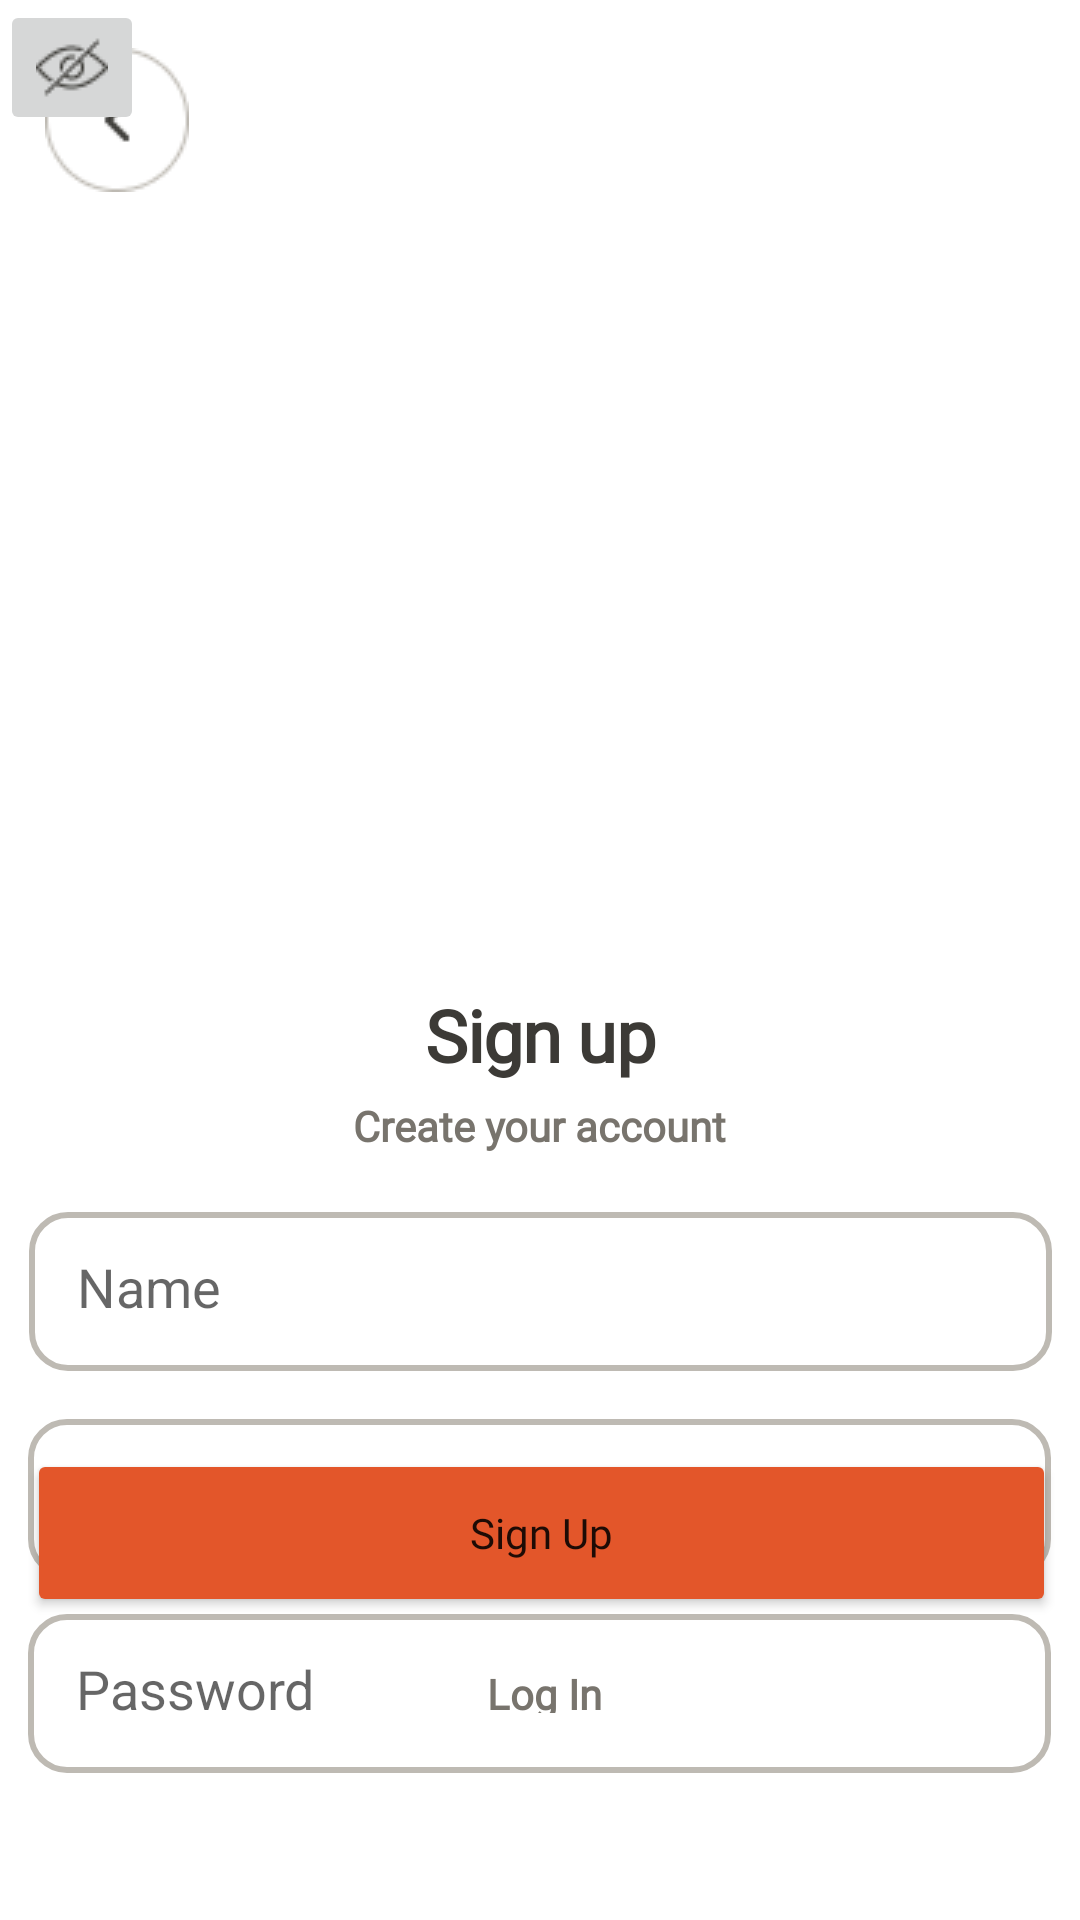

Named icons in this screenshot (1080×1920) and their centers, (x,y):
visibility: (78,76)
